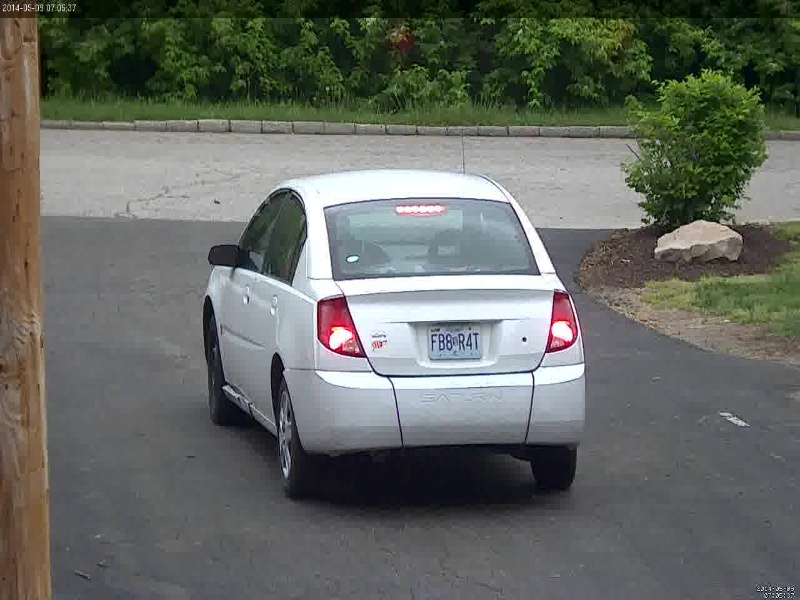licence plate: (425, 321, 485, 361)
